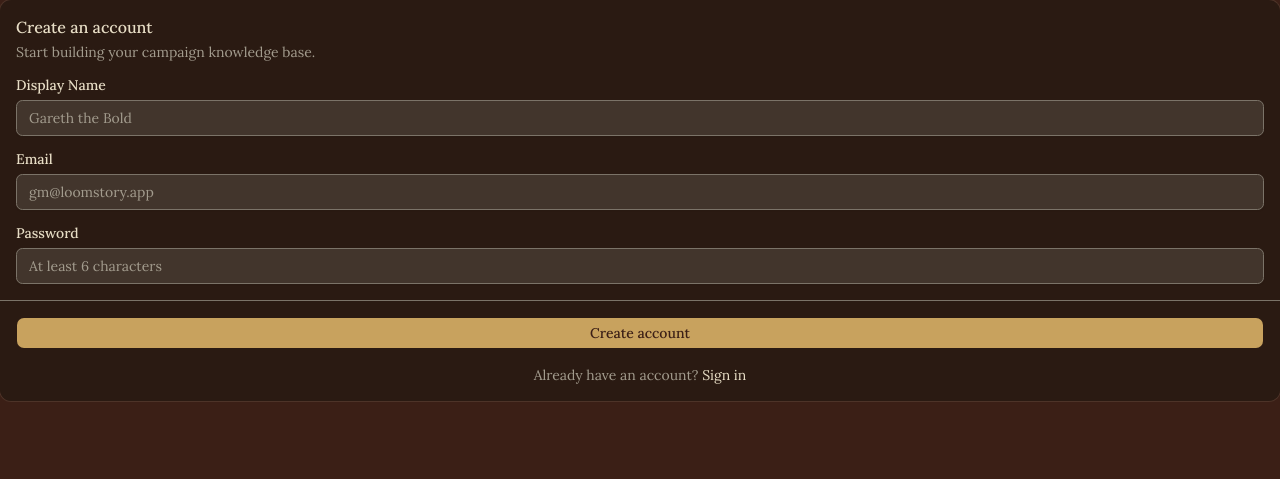
Test case: RegisterPage › shows error on signup failure
Type "Test GM" into the field labelled "Display Name".
click(640, 118); type("Test GM")  # box [16, 100, 1264, 136]
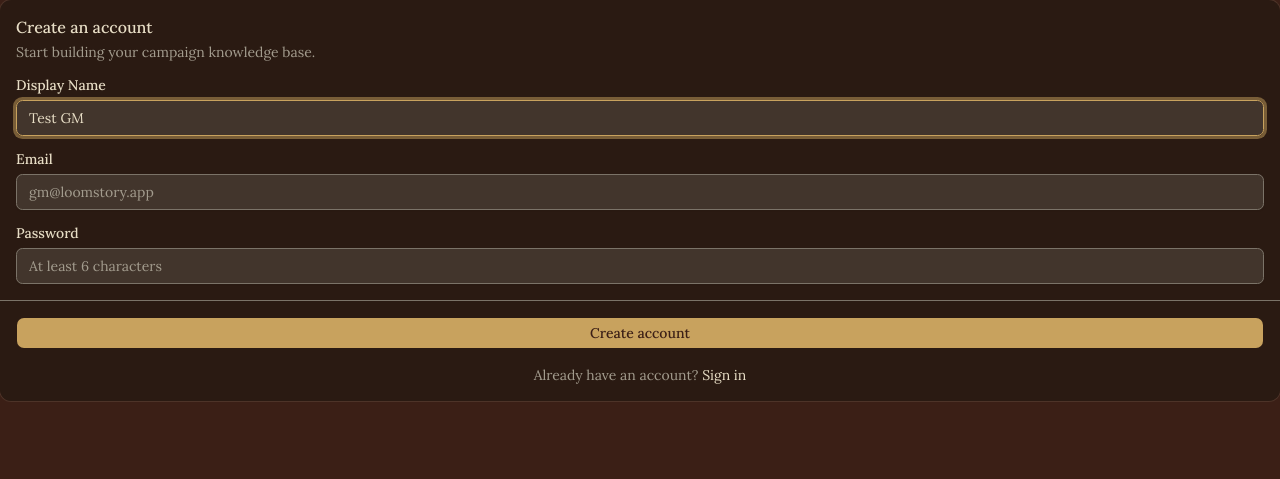
Type "gm@test.com" into the field labelled "Email".
click(640, 192); type("gm@test.com")  # box [16, 174, 1264, 210]
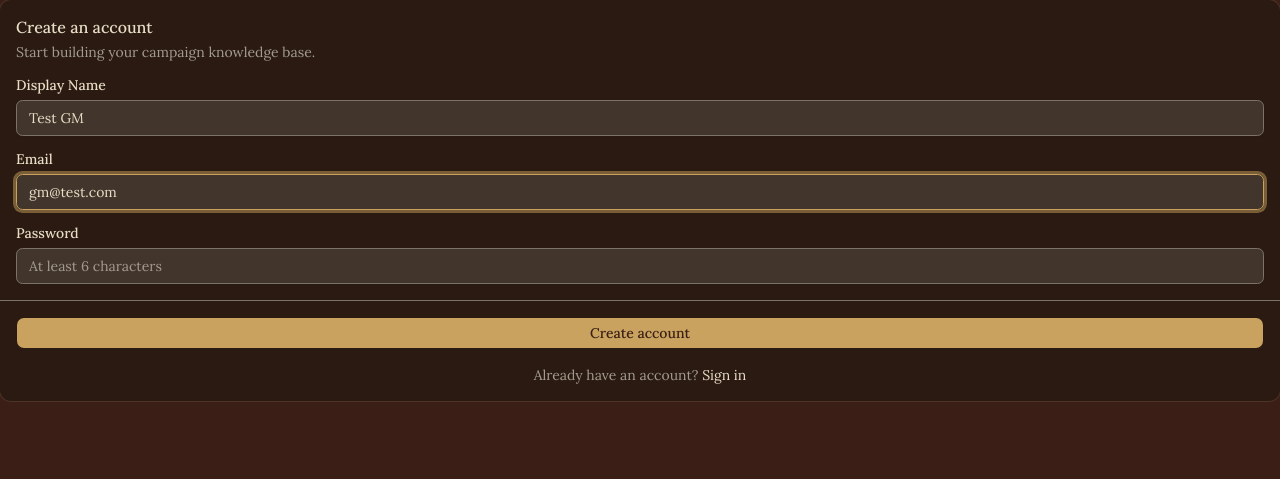
Type "password123" into the password field labelled "Password".
click(640, 266); type("password123")  # box [16, 248, 1264, 284]
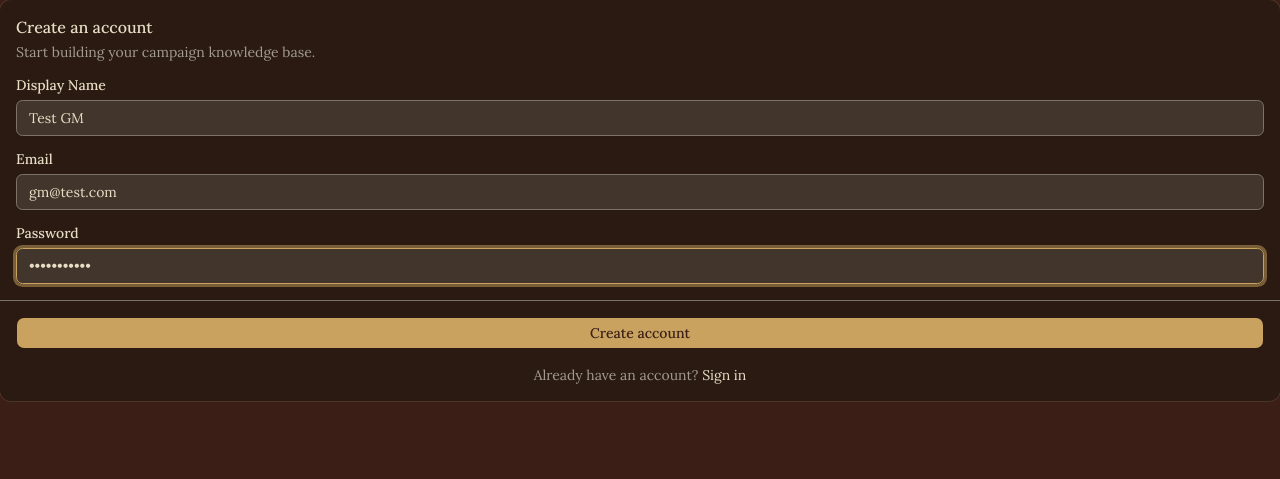
Click the button "Create account".
click(640, 333)  # box [16, 317, 1264, 349]
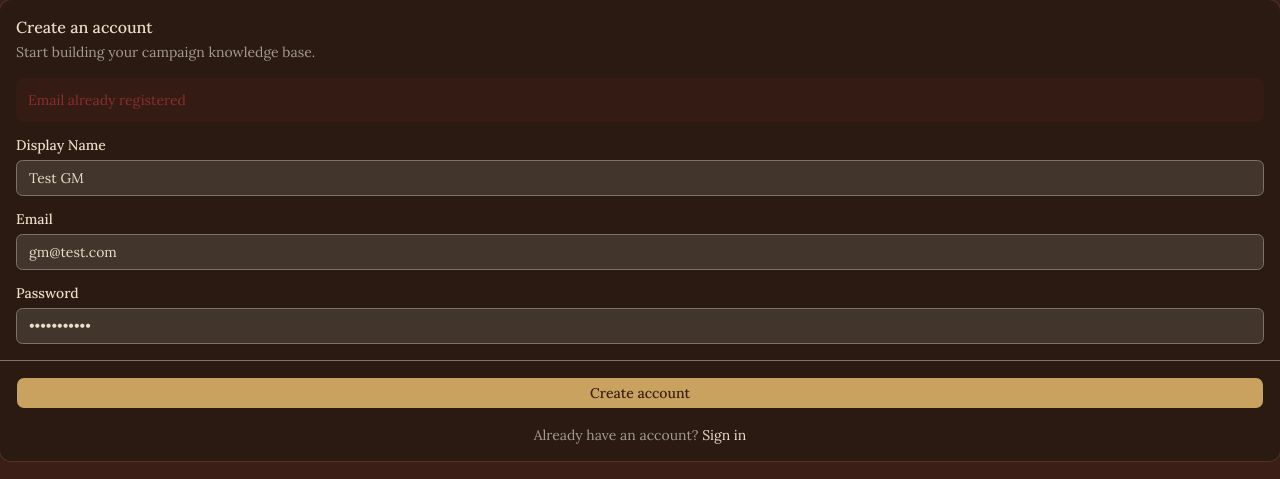
Now the text "Email already registered" is shown, box [16, 78, 1264, 122]
